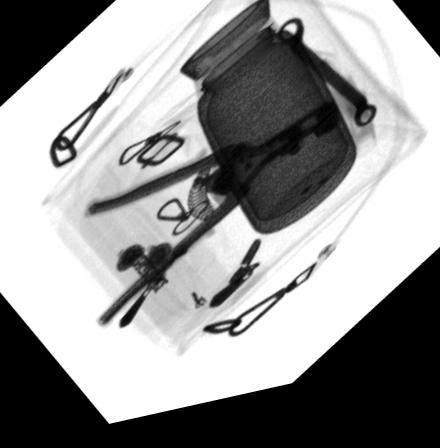Pliers: (84, 115, 337, 332)
Wrench: (276, 29, 376, 145)
